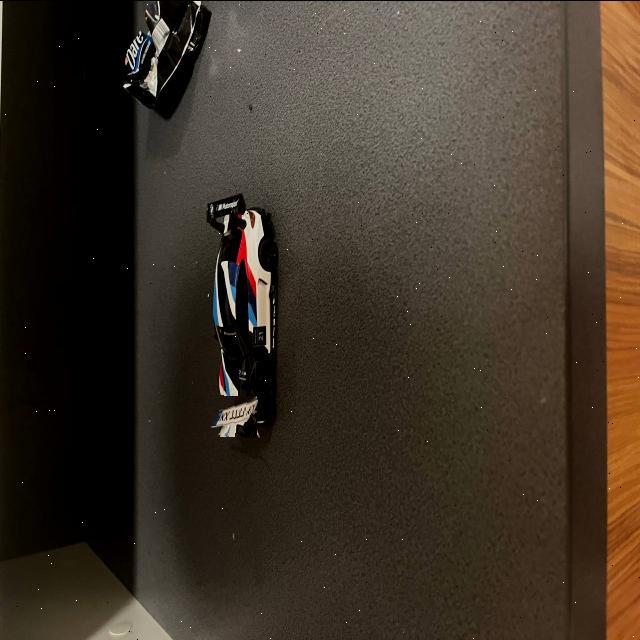KX 7777 KX: (210, 397, 258, 433)
